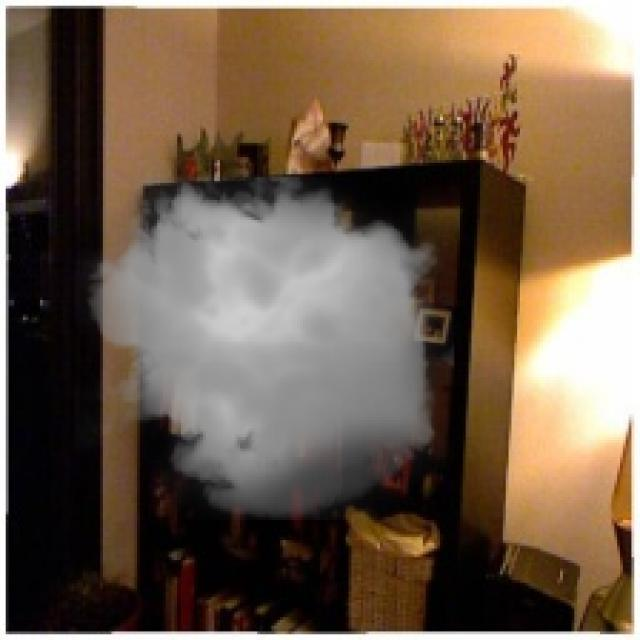Smoke: (74, 159, 454, 532)
